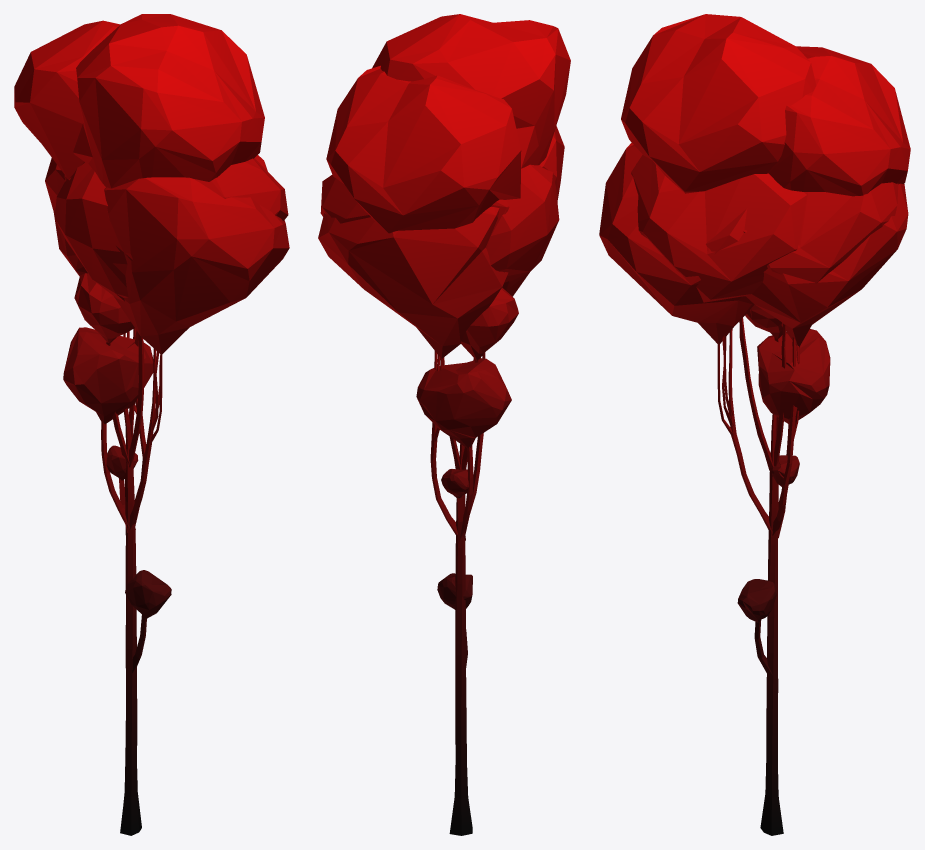
File: TreeBirch08.fbx
3 renders of one model, left to right at view 1: azimuth 30°, elevation 25°; view 2: azimuth 150°, elevation 25°; view 3: azimuth 270°, elevation 25°, orthographic. The views are drawn at different scales.
Visible parts, largest first — view 1: TreeBirch08_LOD0; view 2: TreeBirch08_LOD0; view 3: TreeBirch08_LOD0.
Part boxes in pixels (x1,y1,x2,y2): TreeBirch08_LOD0: [14, 14, 289, 835]; TreeBirch08_LOD0: [318, 14, 570, 835]; TreeBirch08_LOD0: [599, 14, 910, 835].
Size of what is drawn, in the model's own units: 278 by 1064 by 374.
